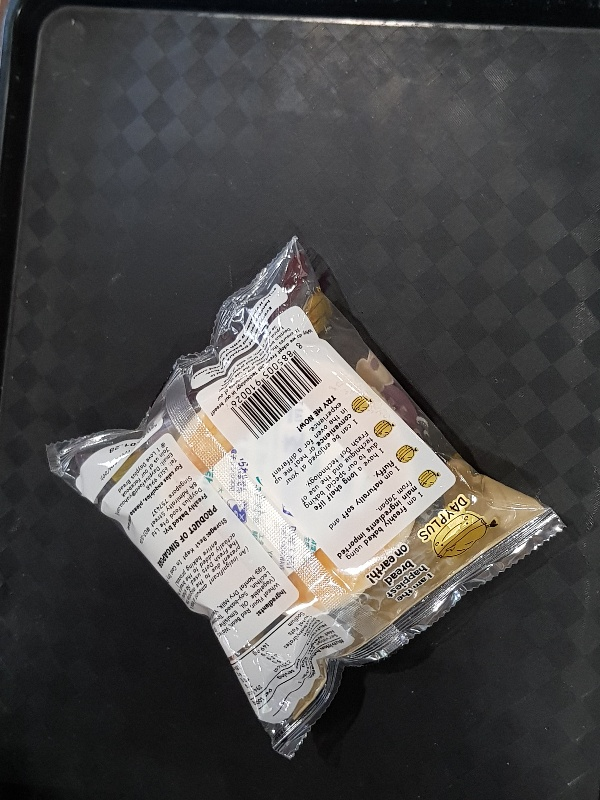Dayplus Red Bean: (44, 233, 565, 761)
